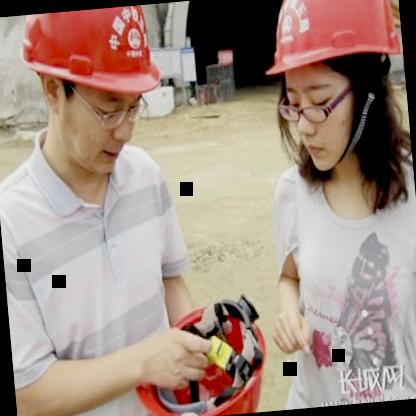helmet: (10, 6, 168, 210), (255, 0, 410, 179)
